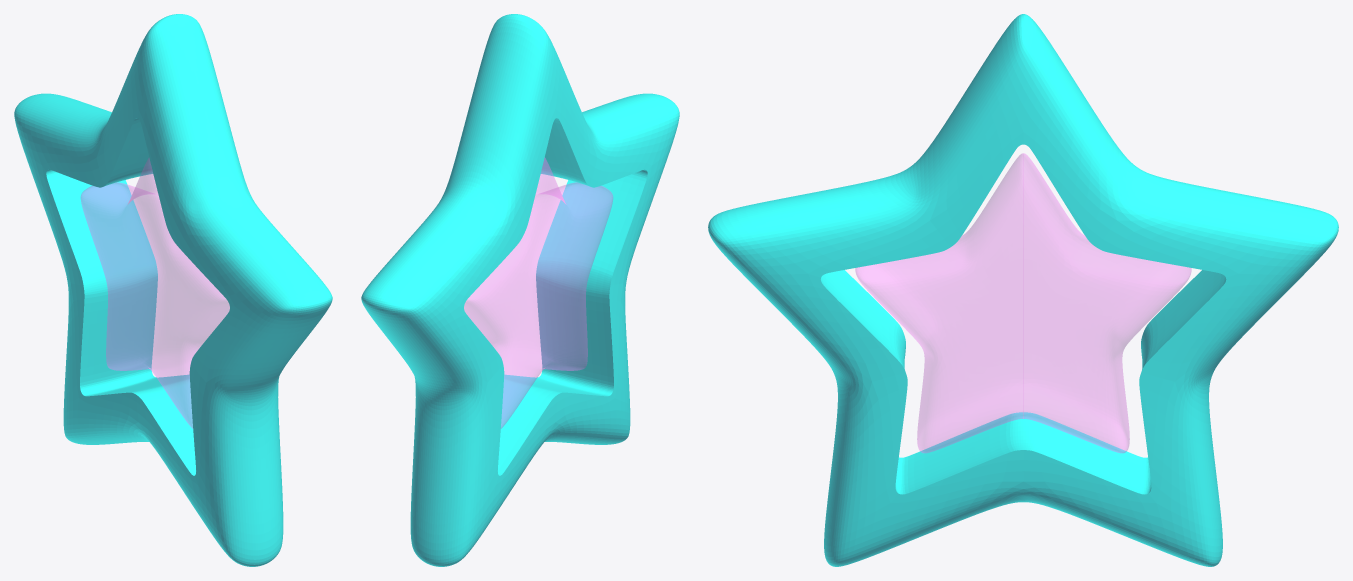
3 views of the same model, side by side, from view 1: azimuth 30°, elevation 25°; view 2: azimuth 150°, elevation 25°; view 3: azimuth 270°, elevation 25° (orthographic). The views are drawn at different scales.
Parts seen in each view (by area): view 1: Outer_STar, innerstar; view 2: Outer_STar, innerstar; view 3: Outer_STar, innerstar.
Part boxes in pixels (<box>): Outer_STar: <box>14,14,332,566</box>; innerstar: <box>81,158,229,428</box>; Outer_STar: <box>361,14,679,566</box>; innerstar: <box>464,158,612,428</box>; Outer_STar: <box>708,14,1338,566</box>; innerstar: <box>855,153,1191,452</box>.
Size of the model in its own units: 0.2658 by 1.7 by 1.79.
